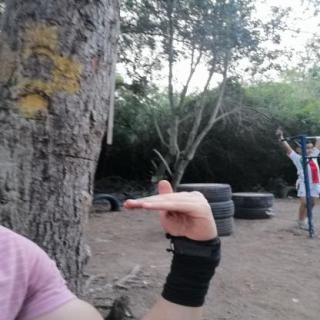KHAA: (115, 174, 228, 249)
